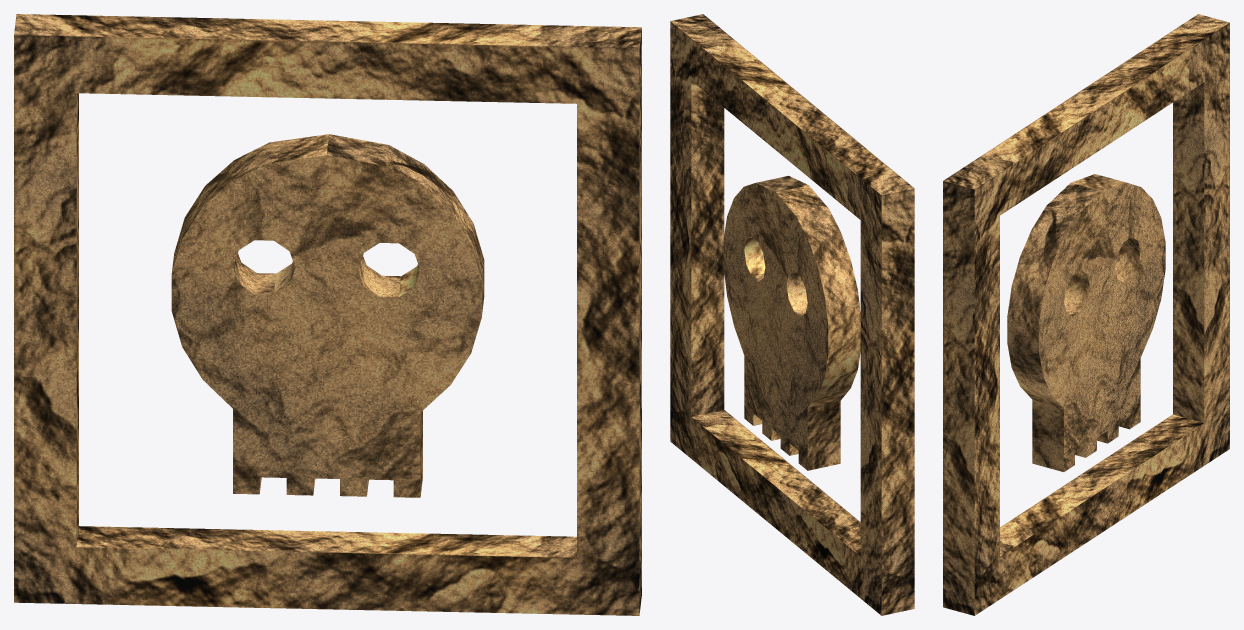
File: bonusForce.fbx
3 views of the same model, side by side, from view 1: azimuth 30°, elevation 25°; view 2: azimuth 150°, elevation 25°; view 3: azimuth 270°, elevation 25° (orthographic). The views are drawn at different scales.
Visible parts, largest first — view 1: 04_Death; view 2: 04_Death; view 3: 04_Death.
Part boxes in pixels (bbox=[...]): 04_Death: bbox=[14, 14, 641, 615]; 04_Death: bbox=[670, 14, 914, 615]; 04_Death: bbox=[943, 14, 1229, 615].
Bounding box in the file's own units: 0.8833 × 1 × 0.61.
Materials: 1 (1 with a texture image).
